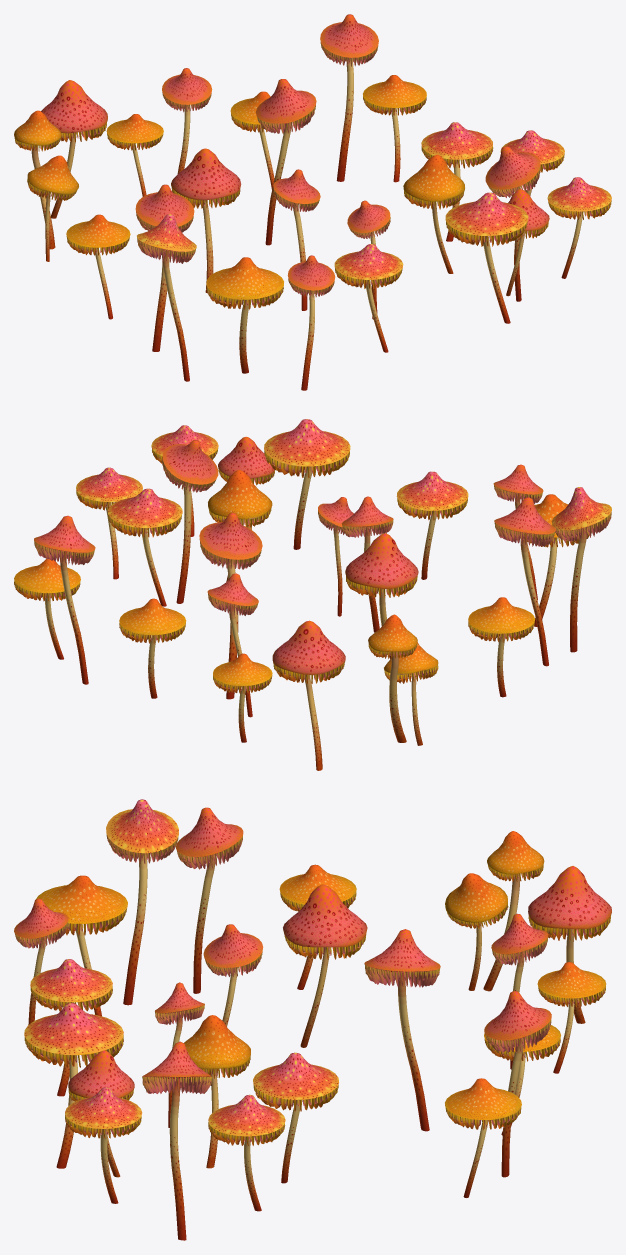
The model's file is Mushrooms.fbx.
3 renders of one model, top to bottom at view 1: azimuth 30°, elevation 25°; view 2: azimuth 150°, elevation 25°; view 3: azimuth 270°, elevation 25°, orthographic. The views are drawn at different scales.
Parts seen in each view (by area): view 1: mushroom_long008, polySurface488, polySurface487, Object012, polySurface489, polySurface493, Object007, polySurface486, mushroom_long007, Object014, polySurface490, polySurface494 (+13 smaller); view 2: mushroom_long008, polySurface493, polySurface487, polySurface490, Object013, polySurface486, polySurface489, mushroom_long007, Object012, Object014, polySurface484, polySurface495 (+13 smaller); view 3: mushroom_long008, polySurface487, polySurface486, polySurface493, polySurface490, polySurface489, Object014, polySurface488, Object013, Object012, mushroom_long007, mushroom_long009 (+13 smaller).
Boxes of the visible parts, bbox=[...] form: mushroom_long008: bbox=[445, 192, 528, 323]; polySurface488: bbox=[206, 257, 283, 373]; polySurface487: bbox=[171, 148, 241, 293]; Object012: bbox=[320, 14, 378, 181]; polySurface489: bbox=[255, 79, 316, 245]; polySurface493: bbox=[41, 80, 107, 218]; Object007: bbox=[403, 154, 464, 273]; polySurface486: bbox=[137, 214, 196, 381]; mushroom_long007: bbox=[334, 244, 403, 352]; Object014: bbox=[135, 184, 194, 351]; polySurface490: bbox=[421, 122, 493, 241]; polySurface494: bbox=[363, 75, 426, 182]; mushroom_long008: bbox=[264, 419, 350, 549]; polySurface493: bbox=[272, 620, 345, 770]; polySurface487: bbox=[345, 533, 418, 659]; polySurface490: bbox=[107, 488, 182, 606]; Object013: bbox=[162, 440, 218, 603]; polySurface486: bbox=[551, 487, 611, 652]; polySurface489: bbox=[199, 512, 262, 699]; mushroom_long007: bbox=[396, 471, 468, 579]; Object012: bbox=[34, 515, 95, 684]; Object014: bbox=[494, 497, 555, 666]; polySurface484: bbox=[468, 597, 535, 697]; polySurface495: bbox=[119, 598, 186, 698]; mushroom_long008: bbox=[24, 1003, 123, 1168]; polySurface487: bbox=[283, 884, 367, 1047]; polySurface486: bbox=[106, 799, 178, 1005]; polySurface493: bbox=[528, 866, 611, 1023]; polySurface490: bbox=[253, 1052, 338, 1183]; polySurface489: bbox=[364, 929, 440, 1131]; Object014: bbox=[176, 807, 243, 993]; polySurface488: bbox=[35, 875, 127, 1016]; Object013: bbox=[142, 1041, 212, 1240]; Object012: bbox=[484, 991, 551, 1177]; mushroom_long007: bbox=[30, 959, 112, 1096]; mushroom_long009: bbox=[65, 1087, 142, 1203].
Bounding box in the file's own units: 2863 × 1137 × 2670.
